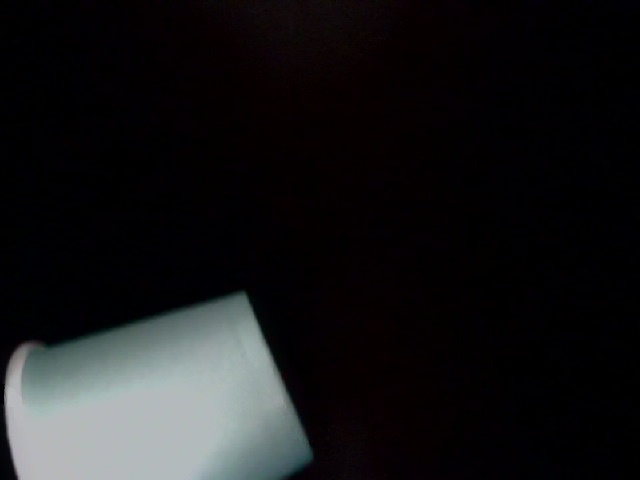KHSLJ: (152, 1, 639, 237)
